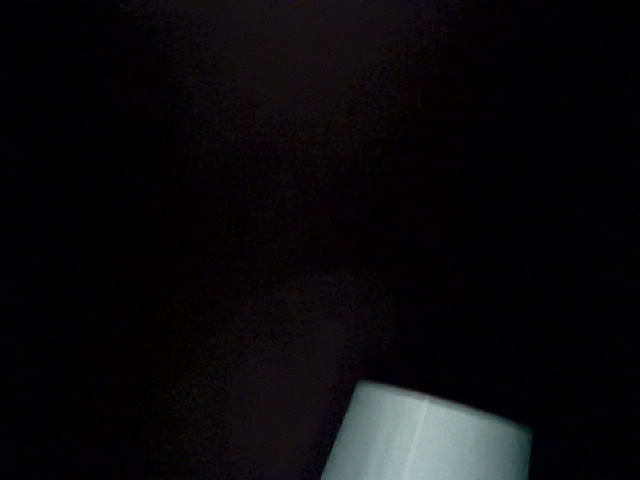KHSLJ: (124, 192, 640, 479)
